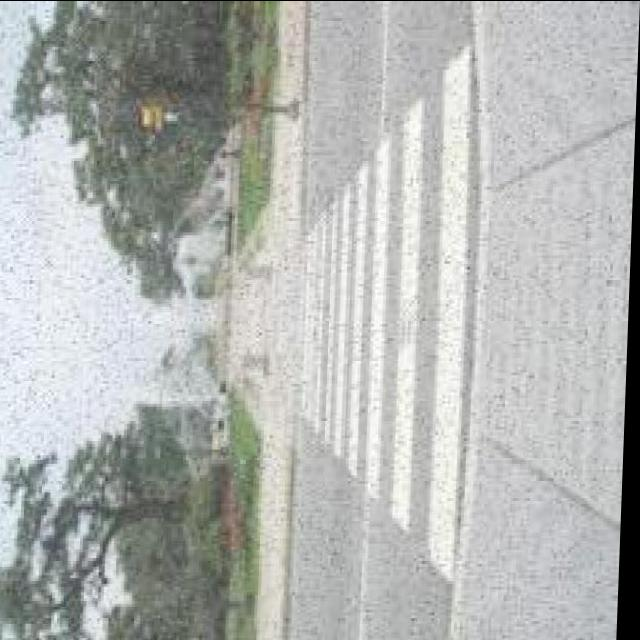zebra: (288, 3, 496, 640)
